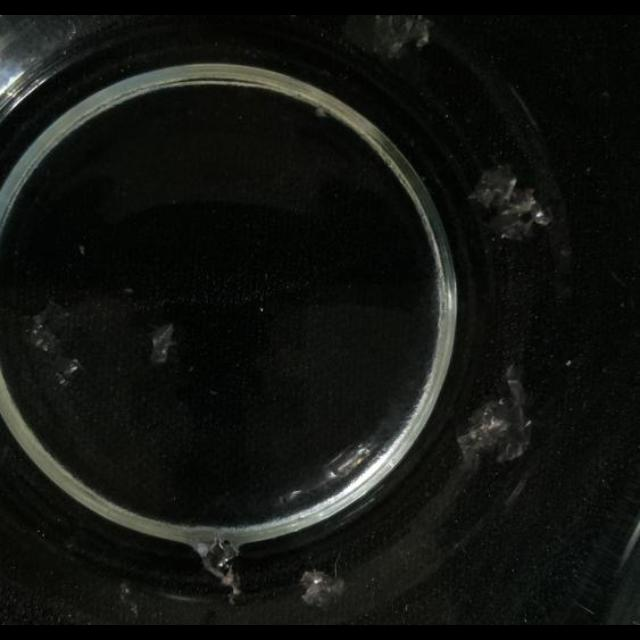Fibre: (458, 382, 530, 466), (471, 166, 551, 240), (25, 303, 85, 385), (354, 16, 431, 60), (198, 541, 244, 605), (299, 570, 345, 610), (150, 324, 178, 364), (118, 582, 138, 616), (314, 104, 330, 118)
microbeads: (122, 287, 134, 295), (78, 244, 85, 256)
